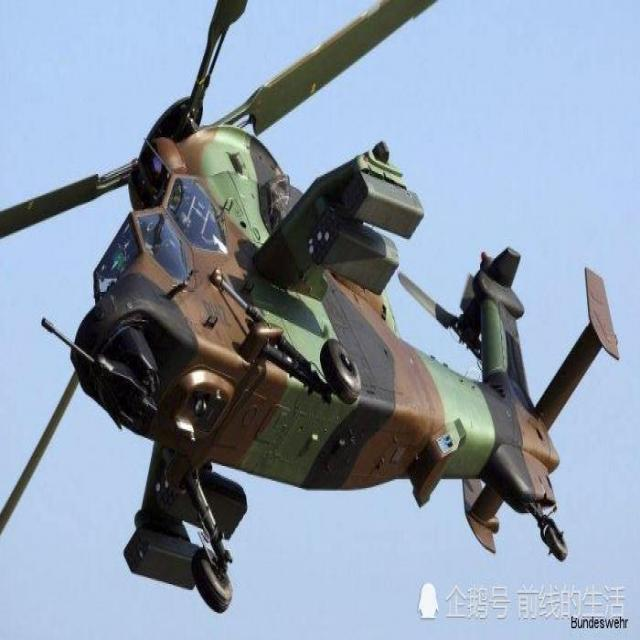MIL_HELO: (0, 0, 621, 613)
